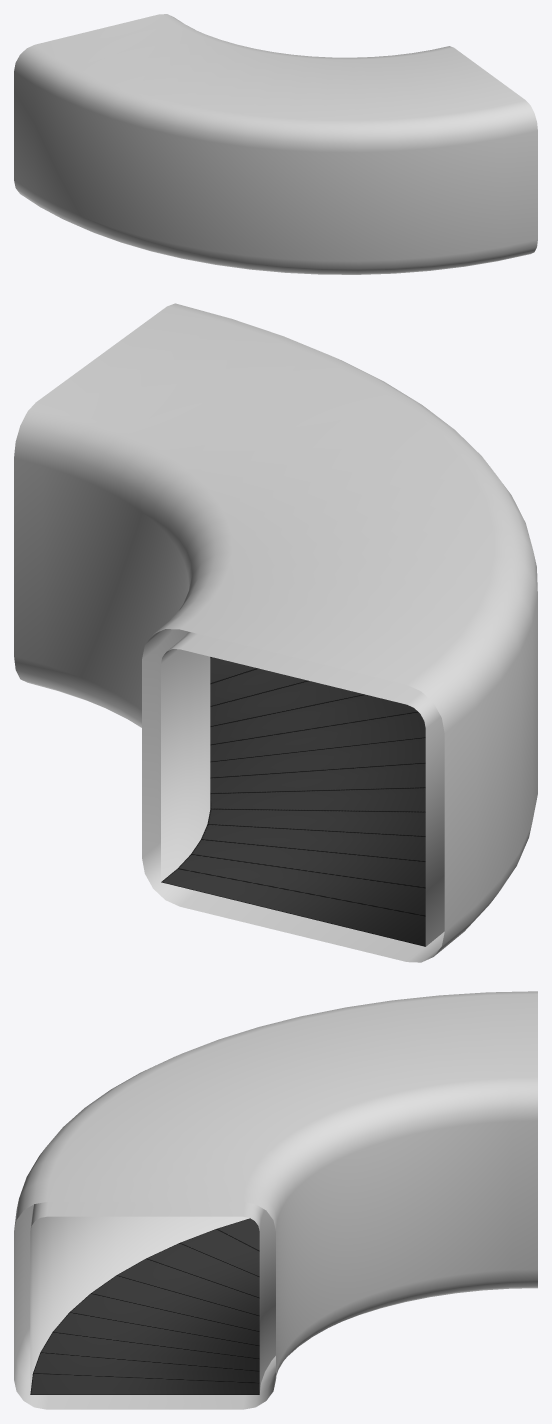
Rendered from SSCCorridor6.fbx.
The picture shows the model from 3 angles, top to bottom: view 1: azimuth 30°, elevation 25°; view 2: azimuth 150°, elevation 25°; view 3: azimuth 270°, elevation 25°; orthographic projection. The views are drawn at different scales.
Parts seen in each view (by area): view 1: SSCCorridor6; view 2: SSCCorridor6, SSCCorridor6Floor; view 3: SSCCorridor6, SSCCorridor6Floor.
Boxes of the visible parts, x1,y1,x2,y2 form: SSCCorridor6: (14, 14, 537, 274); SSCCorridor6: (14, 303, 537, 962); SSCCorridor6Floor: (161, 657, 425, 946); SSCCorridor6: (14, 991, 537, 1409); SSCCorridor6Floor: (30, 1218, 259, 1394).
Bounding box in the file's own units: 800 × 350 × 800.
